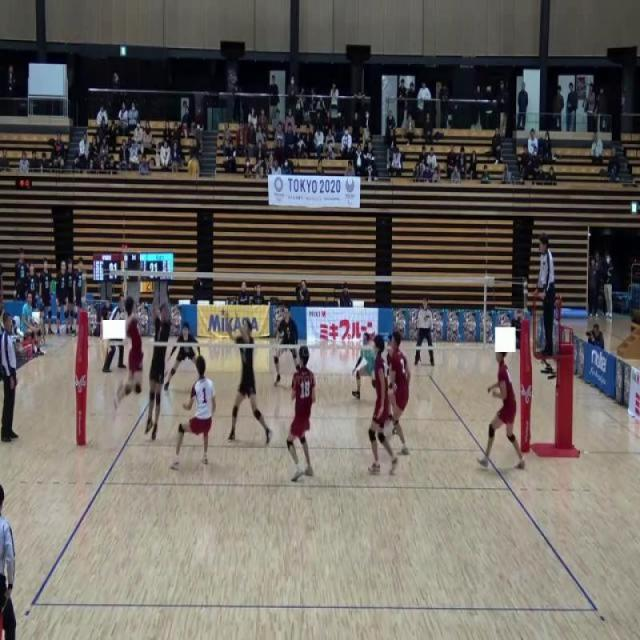volleyball: (187, 157, 200, 179)
